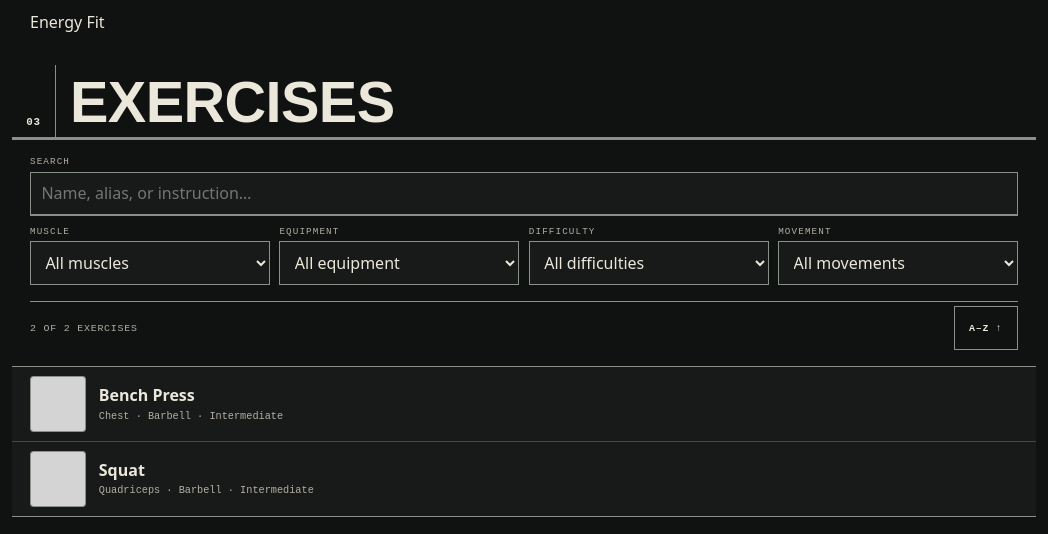
Scenario: ExercisesPage › filters the list by search text and shows a zero-results state
Expected: the text "Bench Press" is shown, top-left (99, 384), bottom-right (195, 406)
Type "squat" into the search field labelled "Search" at (524, 194), box top-left (30, 172), bottom-right (1018, 216)
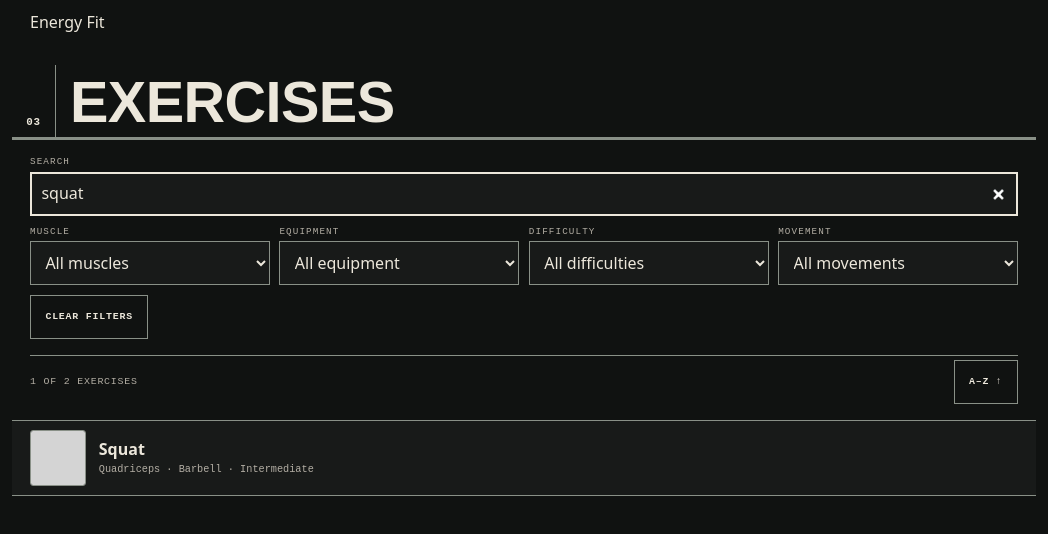
Expected: the text "Squat" is shown, top-left (99, 438), bottom-right (145, 460)
Now the button "Bench Press" is gone
Replace the text in the search field labelled "Search" with "nonexistent exercise" at (524, 194), box top-left (30, 172), bottom-right (1018, 216)
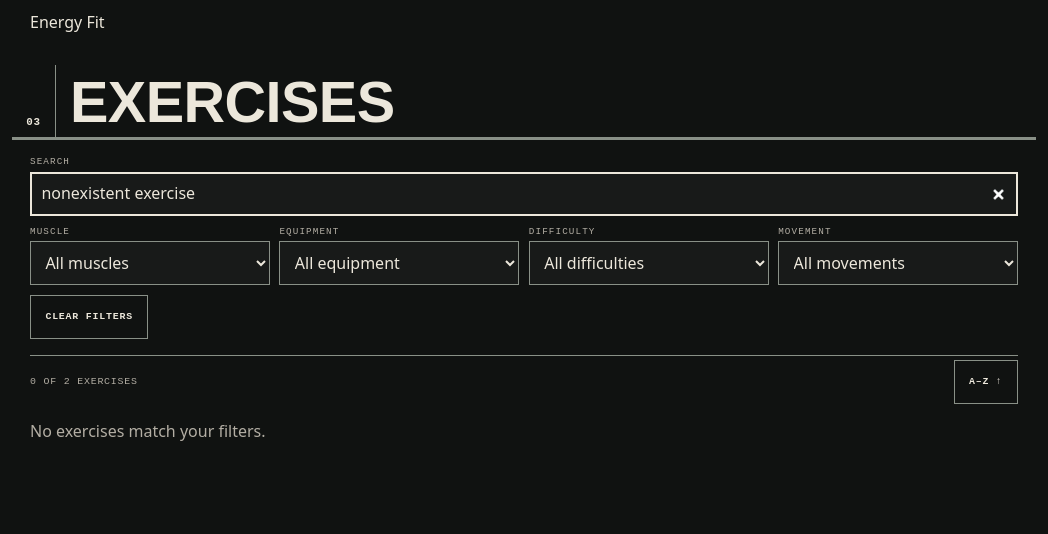
Now the text "No exercises match your filters." is shown, box top-left (30, 420), bottom-right (266, 442)
Click the button "Clear filters" at (89, 317), box top-left (30, 295), bottom-right (148, 339)
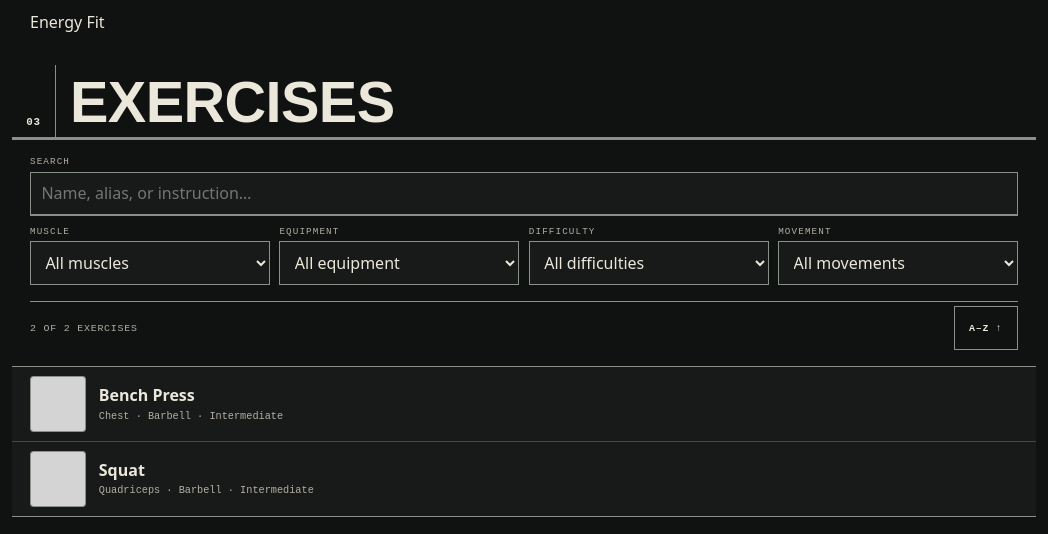
Now the text "Bench Press" is shown, box top-left (99, 384), bottom-right (195, 406)
